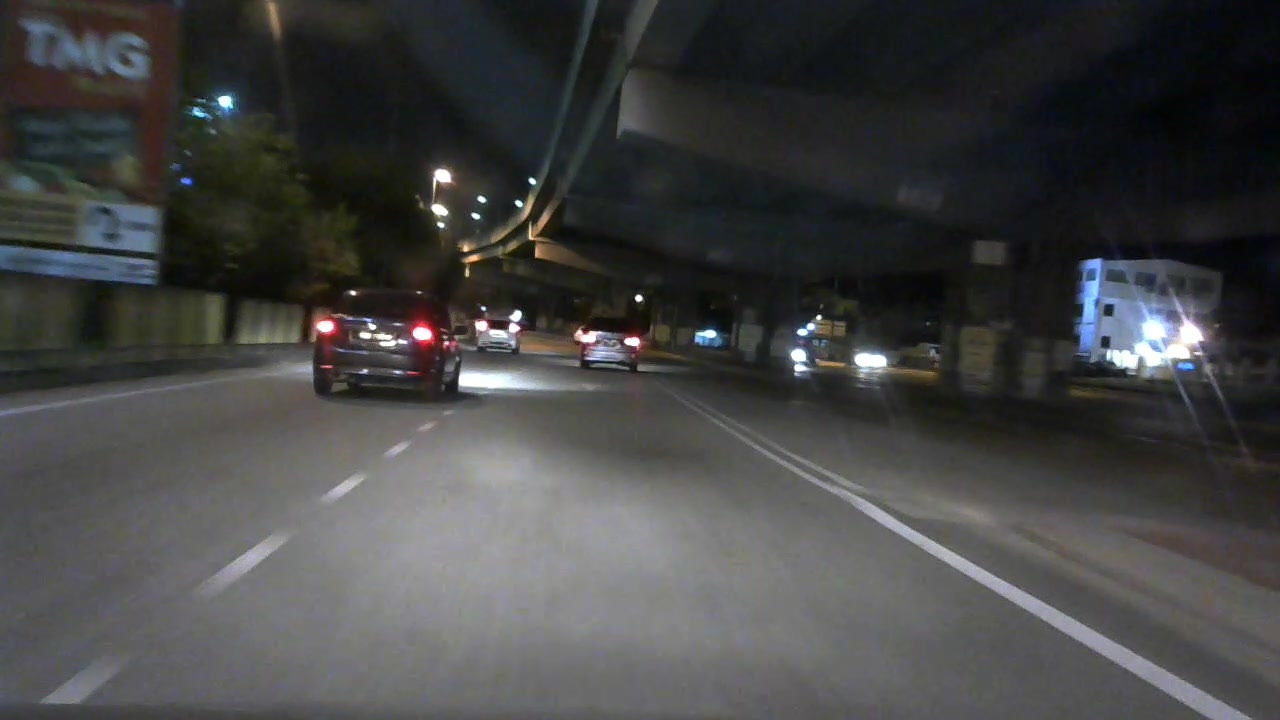Car: (302, 280, 469, 398), (575, 316, 641, 371), (464, 313, 528, 355), (850, 346, 891, 378)
